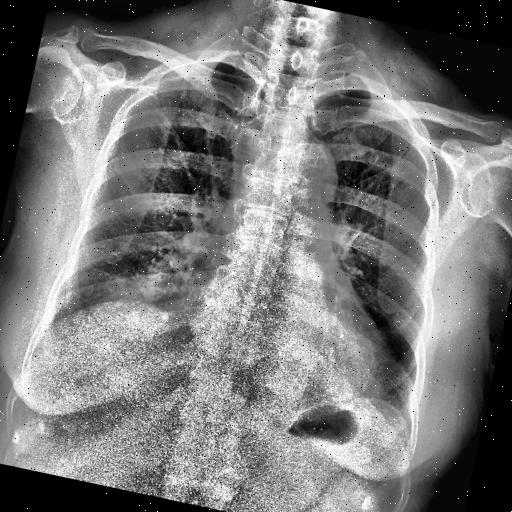0- Aortic enlargement: (271, 132, 348, 218), (267, 136, 346, 218), (282, 140, 346, 232)
13- Pulmonary fibrosis: (150, 114, 210, 190)
3- Cardiomegaly: (170, 268, 410, 410), (164, 267, 396, 395), (164, 284, 394, 394)
